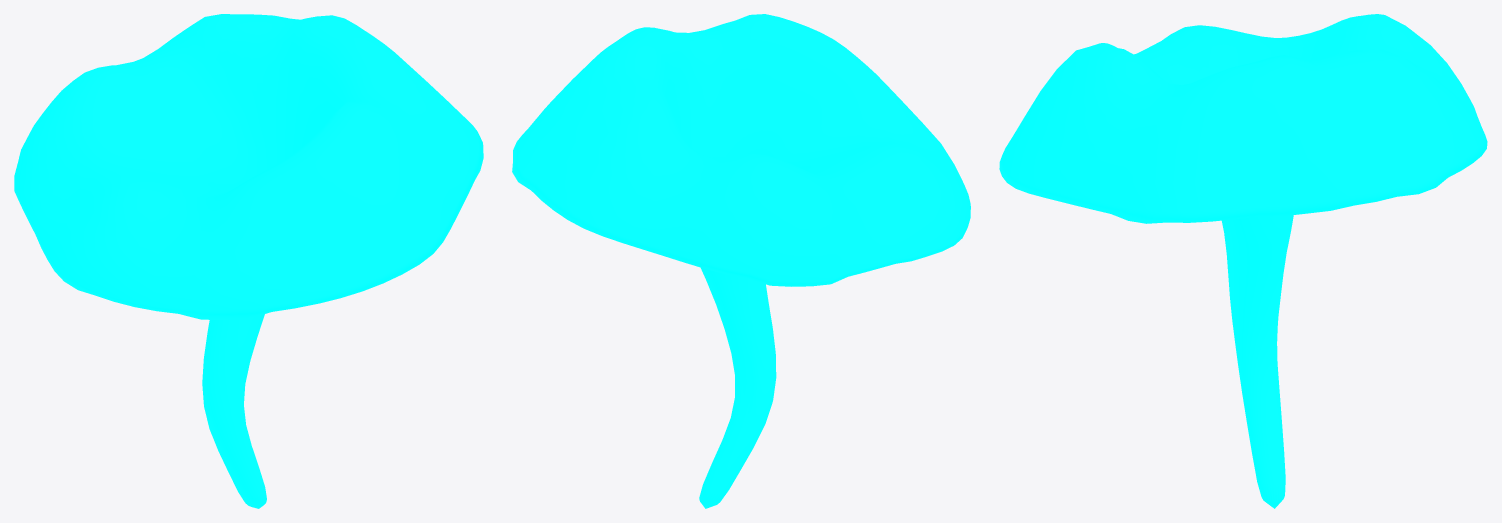
File: mushroombluepink_large.fbx
3 views of the same model, side by side, from view 1: azimuth 30°, elevation 25°; view 2: azimuth 150°, elevation 25°; view 3: azimuth 270°, elevation 25° (orthographic). The views are drawn at different scales.
Visible parts, largest first — view 1: mushroom_musgrave; view 2: mushroom_musgrave; view 3: mushroom_musgrave.
Boxes of the visible parts, x1,y1,x2,y2 form: mushroom_musgrave: (14, 14, 483, 508); mushroom_musgrave: (512, 14, 970, 508); mushroom_musgrave: (999, 14, 1487, 508).
Size of the model in its own units: 22.41 by 24.97 by 22.81.
